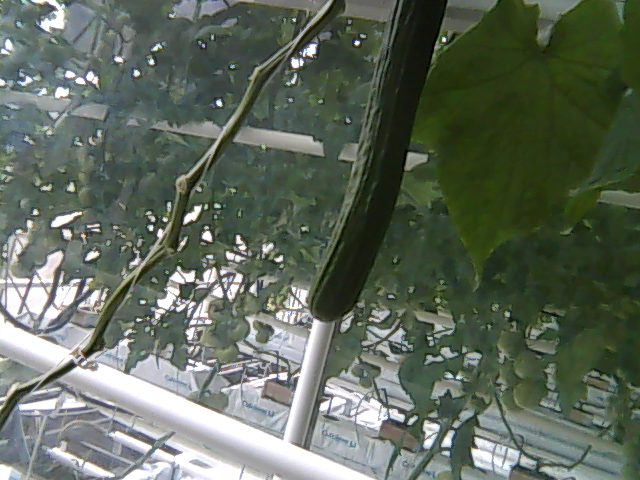concombre: (305, 1, 449, 324)
